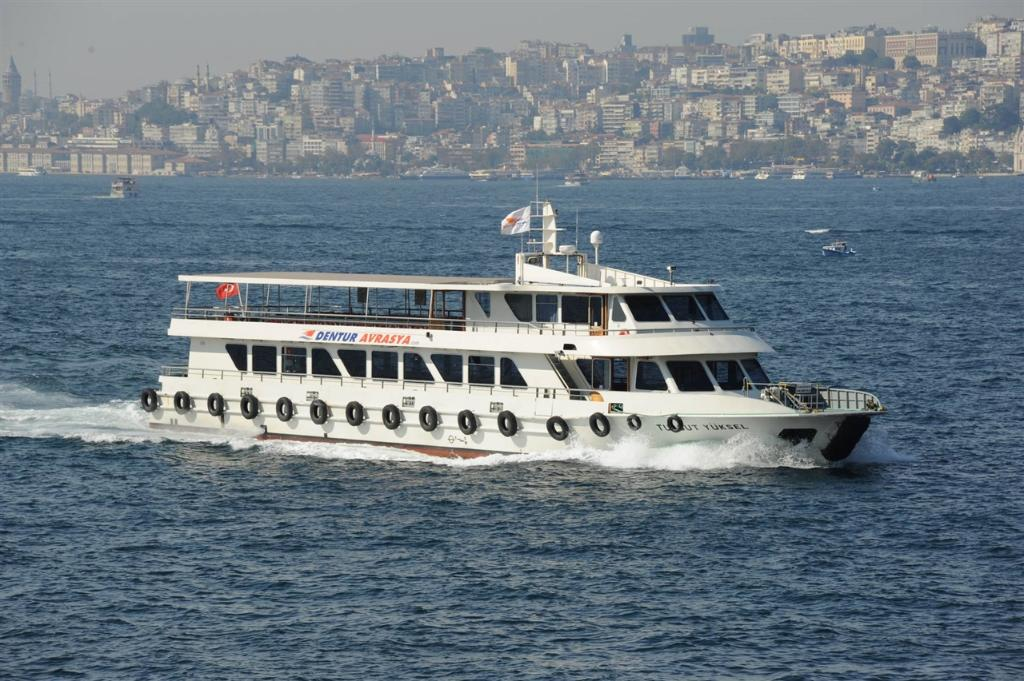PassengerShip: (126, 208, 892, 472), (103, 173, 143, 203), (16, 161, 52, 181)
